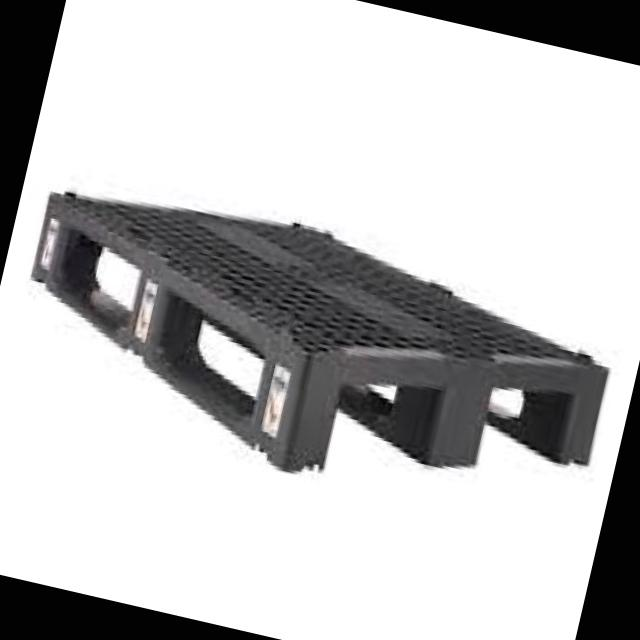pallet: (0, 155, 637, 559)
